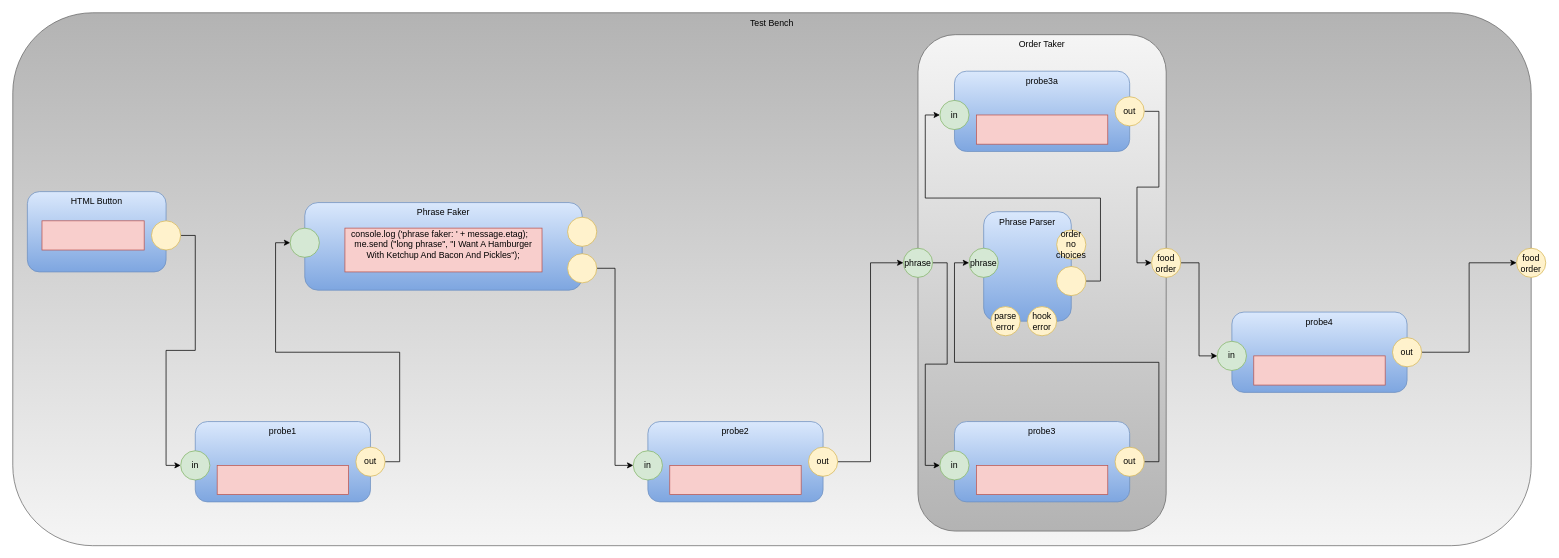
The diagram is 1559 pixels wide and 558 high, and some of its shapes have lost their labels. Each missing label, with the centre of its shape:
click: point (166, 235)
console.log ('probe 2: ' + message.data); me.send ("out", message.data);: point (735, 480)
console.log ('probe 3: ' + message.data); me.send ("out", message.data);: point (1042, 480)
console.log ('probe 3a: ' + message.data); me.send ("out", message.data);: point (1042, 129)
console.log ('probe 4: ' + message.data); me.send ("out", message.data);: point (1319, 370)
console.log ('probe: ' + message.data); me.send ("out", message.data);: point (282, 480)
go: point (304, 242)
long phrase: point (582, 268)
me.send ("click", true);: point (92, 235)
order with choices: point (1071, 281)
short phrase: point (582, 231)
